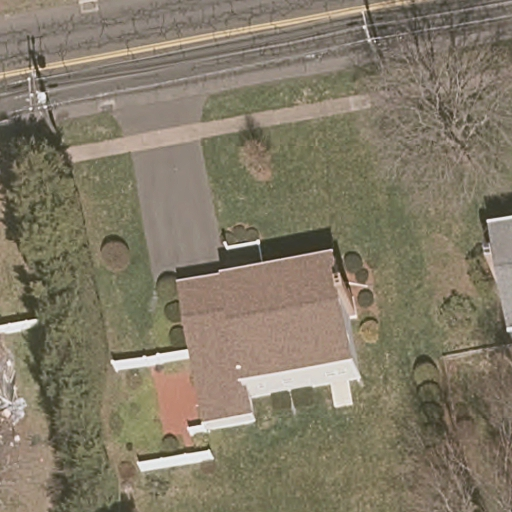DT: (24, 59, 56, 124), (360, 6, 380, 52)
